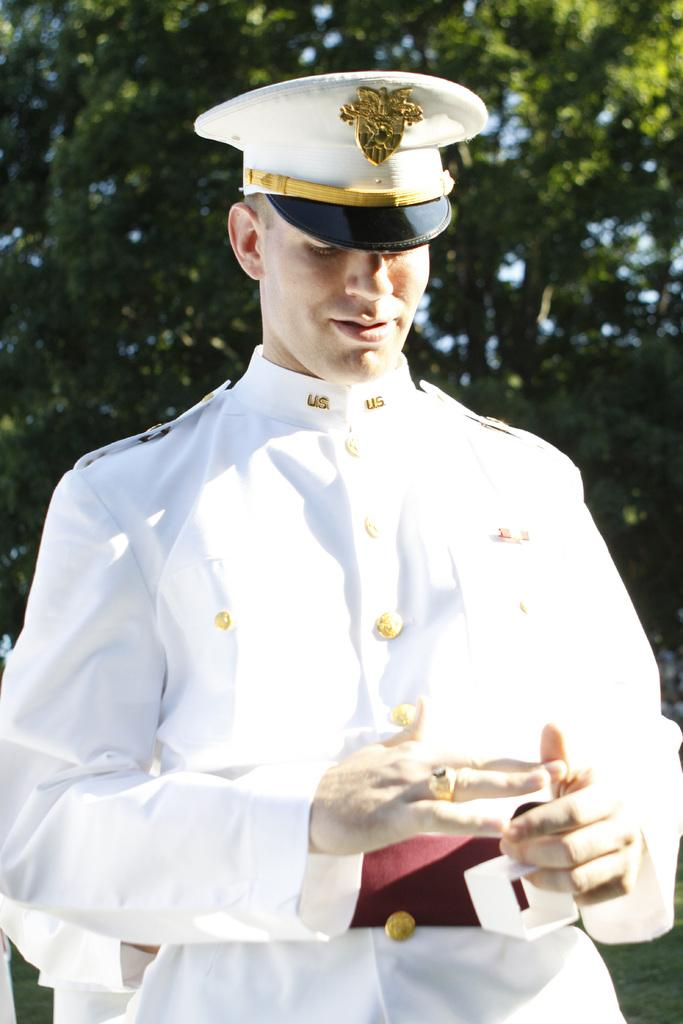Hat: (216, 78, 472, 225)
